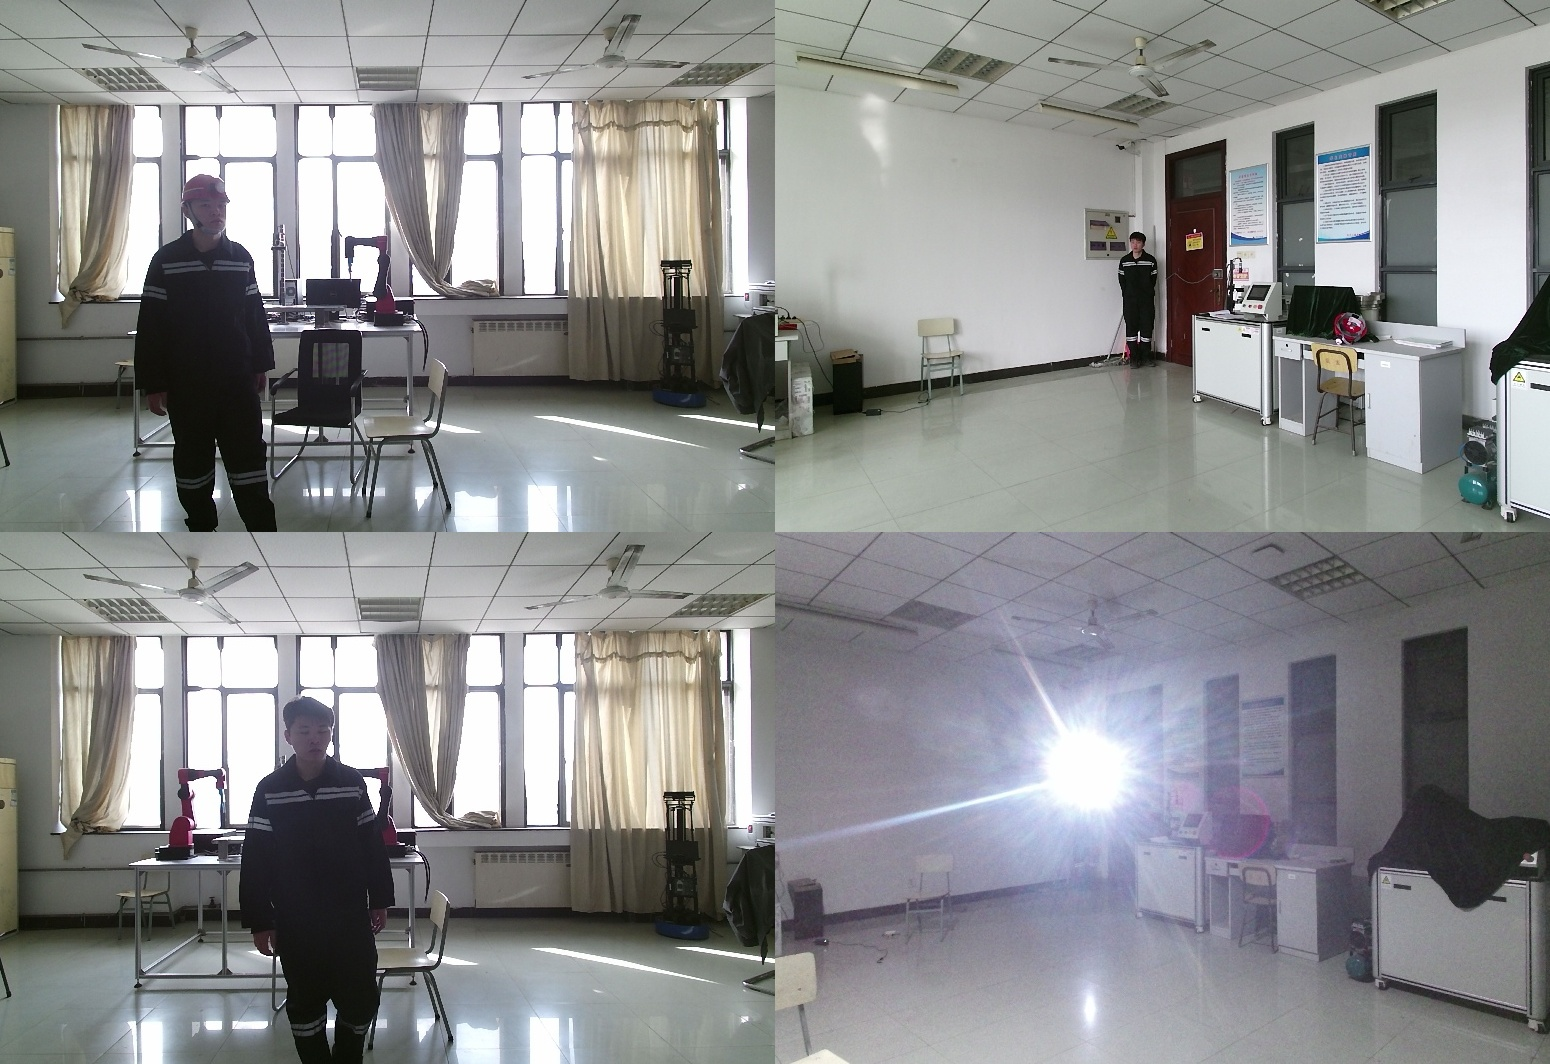person: (244, 700, 401, 1064), (139, 176, 293, 532), (1116, 232, 1161, 370), (1061, 768, 1107, 892)
